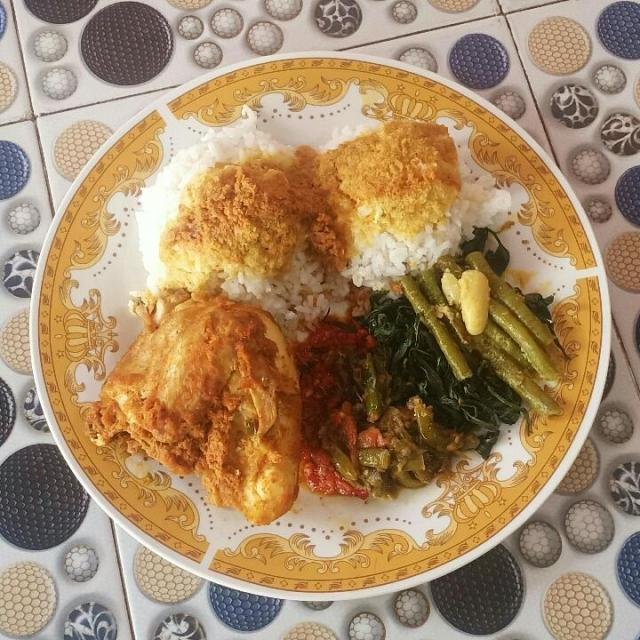Egg: (83, 293, 303, 525)
Plate: (32, 54, 609, 598)
Rice: (134, 115, 516, 338)
Vegetables: (323, 228, 570, 499)
